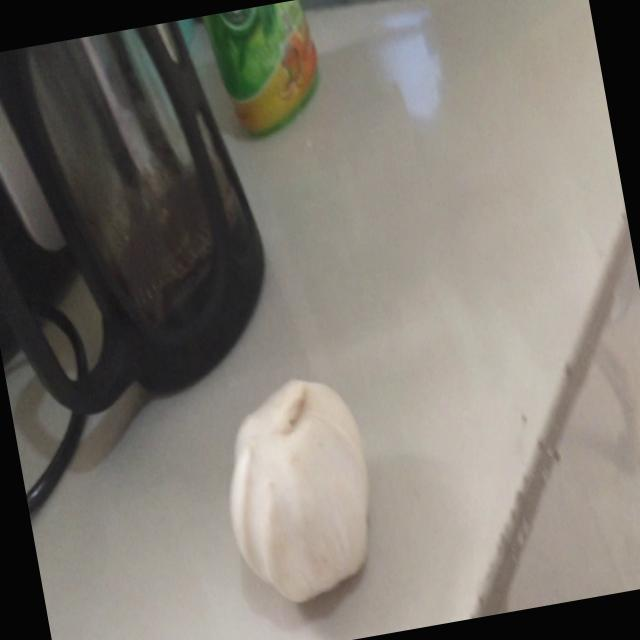garlic: (205, 365, 393, 619)
